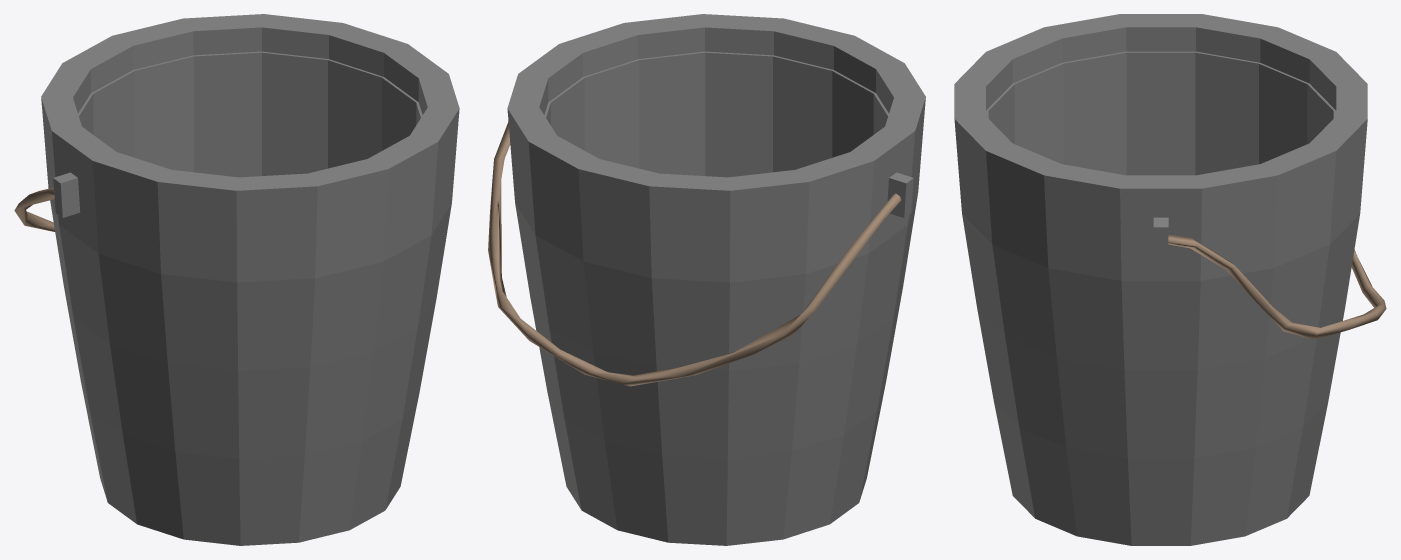
File: EmptyBucketModel.fbx
3 renders of one model, left to right at view 1: azimuth 30°, elevation 25°; view 2: azimuth 150°, elevation 25°; view 3: azimuth 270°, elevation 25°, orthographic.
Visible parts, largest first — view 1: Bucket, Handle; view 2: Bucket, Handle; view 3: Bucket, Handle.
Part boxes in pixels (box(x1,y1,x2,y2)): Bucket: box(41, 14, 459, 545); Handle: box(14, 187, 54, 231); Bucket: box(507, 14, 925, 545); Handle: box(488, 121, 901, 386); Bucket: box(954, 14, 1367, 545); Handle: box(1168, 234, 1386, 339).
Bounding box in the file's own units: 213 × 200 × 205.
